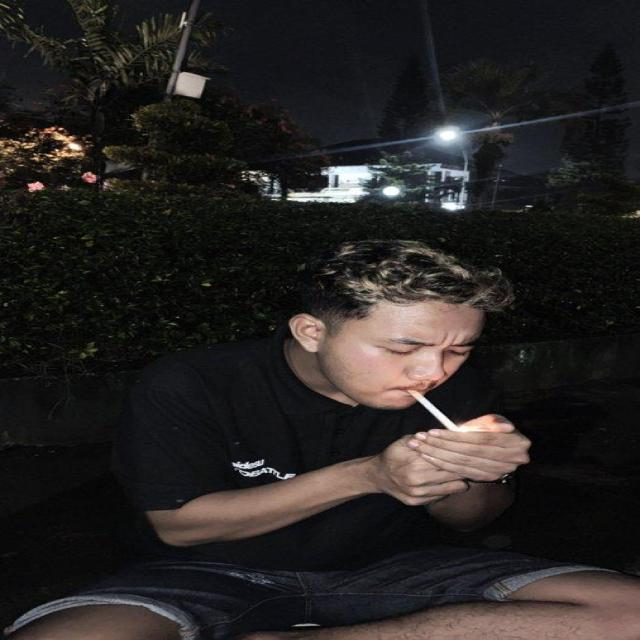rokok: (406, 382, 462, 440)
